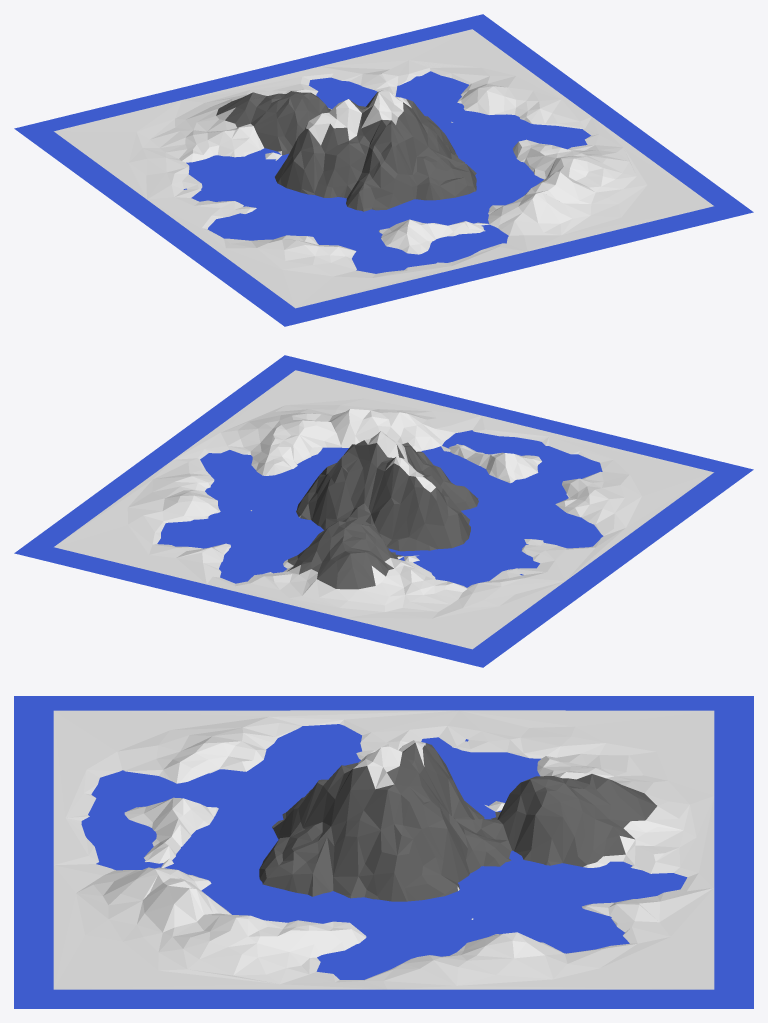
File: enviroment_mountain_lake.fbx
The picture shows the model from 3 angles, top to bottom: view 1: azimuth 30°, elevation 25°; view 2: azimuth 150°, elevation 25°; view 3: azimuth 270°, elevation 25°; orthographic projection. The views are drawn at different scales.
Visible parts, largest first — view 1: Landscape.016, Landscape_plane.002; view 2: Landscape.016, Landscape_plane.002; view 3: Landscape.016, Landscape_plane.002.
Boxes of the visible parts, x1,y1,x2,y2 form: Landscape.016: (54, 29, 713, 308); Landscape_plane.002: (14, 14, 753, 326); Landscape.016: (54, 370, 713, 649); Landscape_plane.002: (14, 355, 753, 667); Landscape.016: (53, 710, 714, 989); Landscape_plane.002: (14, 696, 753, 1008).
Size of the model in its own units: 4480 by 930 by 4480.
